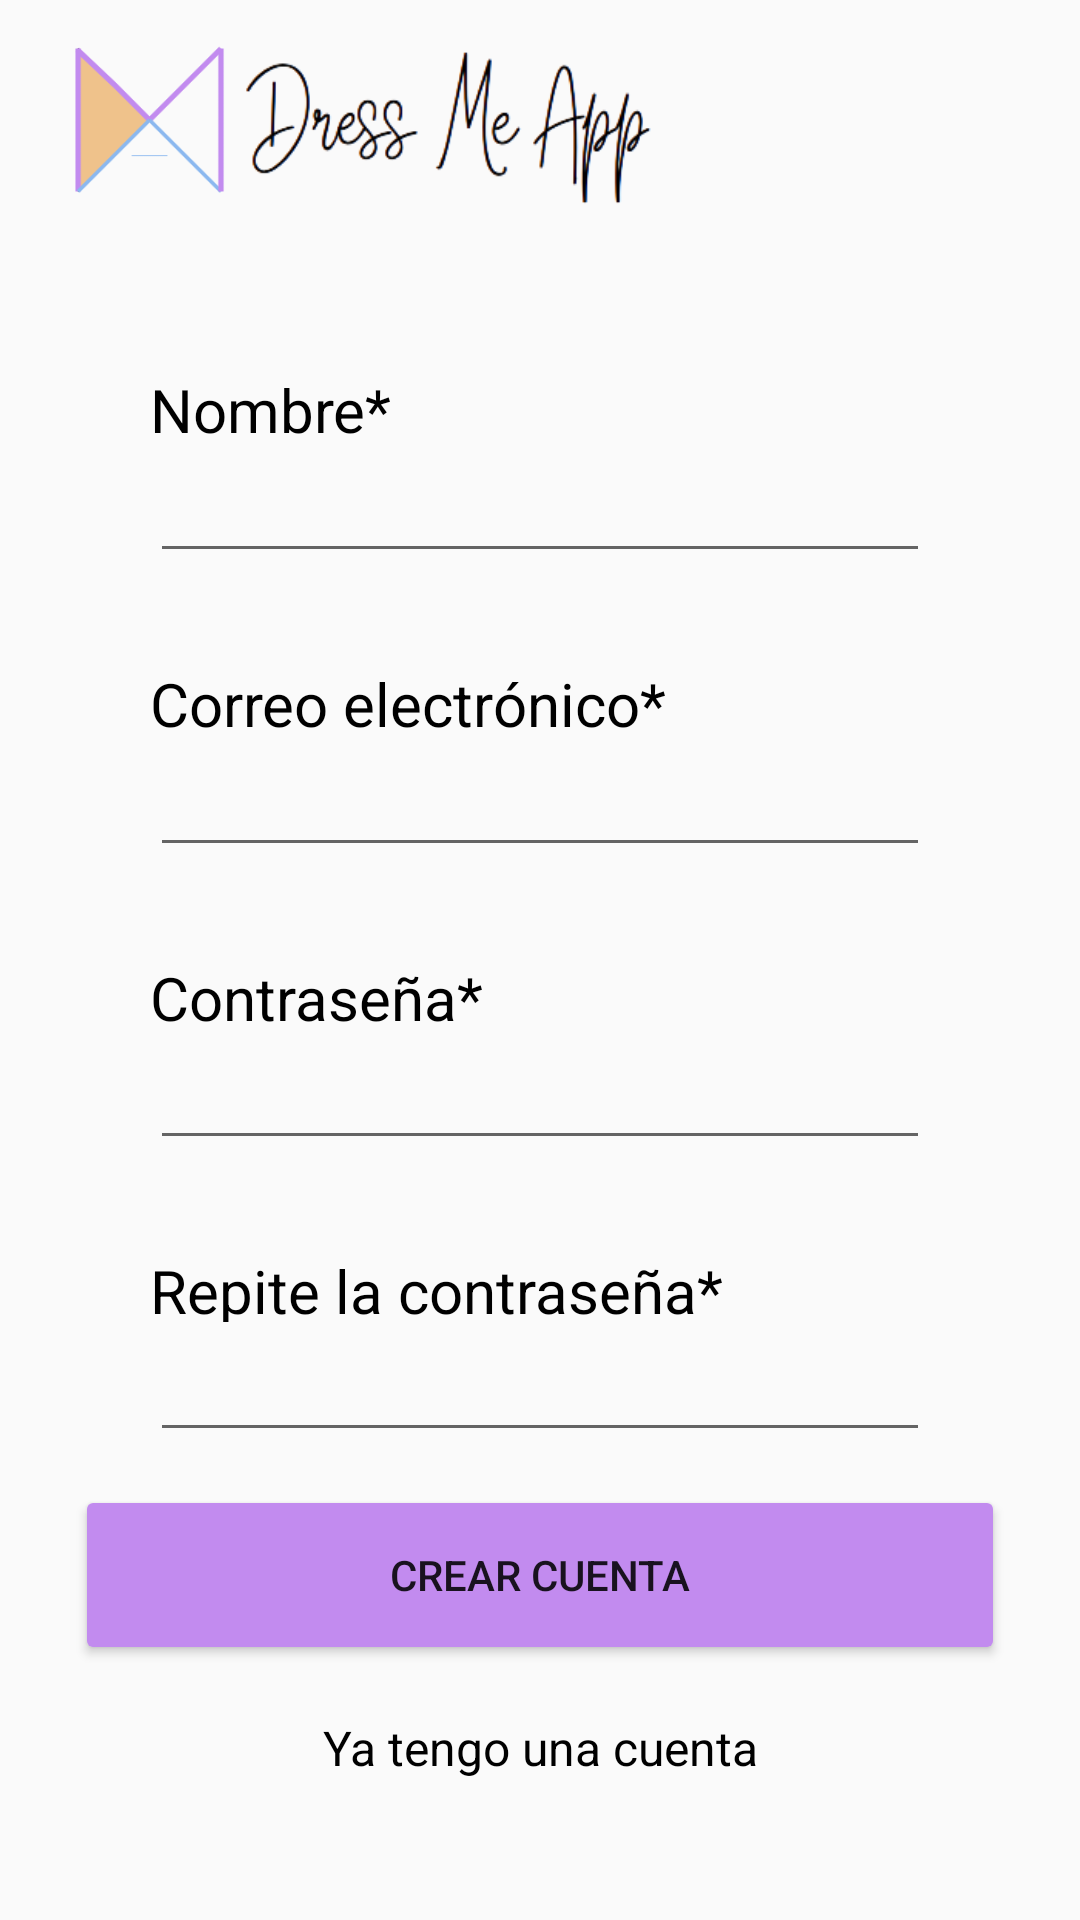

Icons on this 1080 × 1920 Android screen, each with the point to tap as point (x, y):
dma: point (149, 120)
